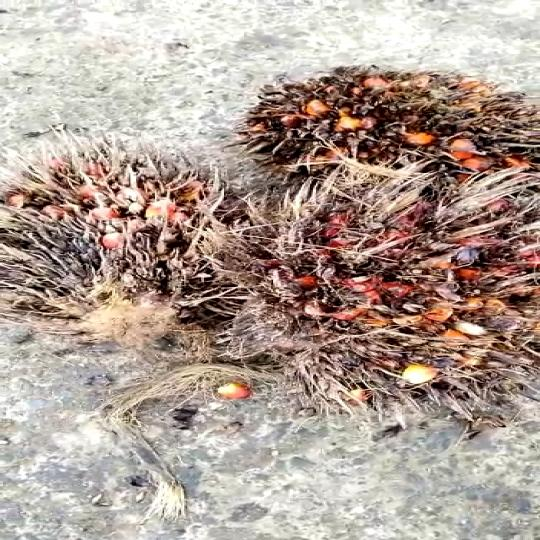terlalu masak: (256, 180, 540, 419), (0, 163, 281, 327), (249, 80, 540, 192)
